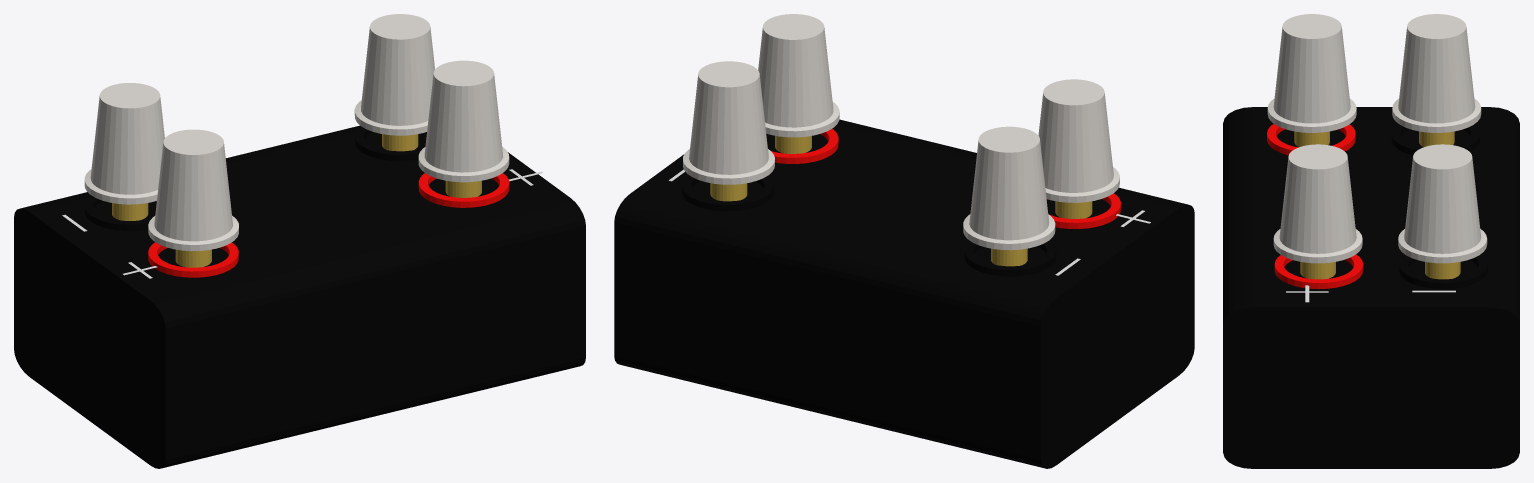
3 views of the same model, side by side, from view 1: azimuth 30°, elevation 25°; view 2: azimuth 150°, elevation 25°; view 3: azimuth 270°, elevation 25° (orthographic). The views are drawn at different scales.
Visible parts, largest first — view 1: box1.001, 按钮2.014, 按钮2.010, 按钮2.016, 按钮2.012, 帽体.008, 帽体.010, 帽体.009, 帽体.011, 按钮2.011, 按钮2.013, 按钮2.017 (+1 smaller); view 2: box1.001, 按钮2.012, 按钮2.016, 按钮2.010, 按钮2.014, 帽体.011, 帽体.009, 帽体.008, 帽体.010, 按钮2.017, 按钮2.011, 按钮2.015 (+1 smaller); view 3: box1.001, 按钮2.016, 按钮2.014, 按钮2.012, 按钮2.010, 帽体.011, 帽体.010, 帽体.008, 帽体.009, 按钮2.015, 按钮2.017, 按钮2.013 (+1 smaller).
Part boxes in pixels (x1=…): box1.001: x1=14, y1=125, x2=585, y2=468; 按钮2.014: x1=418, y1=60, x2=509, y2=182; 按钮2.010: x1=148, y1=129, x2=238, y2=251; 按钮2.016: x1=354, y1=14, x2=434, y2=135; 按钮2.012: x1=84, y1=83, x2=164, y2=204; 帽体.008: x1=148, y1=242, x2=238, y2=277; 帽体.010: x1=418, y1=173, x2=509, y2=207; 帽体.009: x1=84, y1=195, x2=156, y2=230; 帽体.011: x1=355, y1=126, x2=423, y2=161; 按钮2.011: x1=175, y1=249, x2=211, y2=267; 按钮2.013: x1=112, y1=203, x2=148, y2=220; 按钮2.017: x1=382, y1=134, x2=418, y2=151; box1.001: x1=614, y1=119, x2=1194, y2=468; 按钮2.012: x1=963, y1=126, x2=1055, y2=250; 按钮2.016: x1=683, y1=61, x2=774, y2=184; 按钮2.010: x1=1038, y1=79, x2=1119, y2=202; 按钮2.014: x1=758, y1=14, x2=839, y2=137; 帽体.011: x1=682, y1=175, x2=773, y2=211; 帽体.009: x1=964, y1=240, x2=1056, y2=276; 帽体.008: x1=1046, y1=193, x2=1120, y2=228; 帽体.010: x1=771, y1=129, x2=838, y2=163; 按钮2.017: x1=710, y1=183, x2=747, y2=201; 按钮2.011: x1=1055, y1=201, x2=1092, y2=218; 按钮2.015: x1=775, y1=136, x2=811, y2=153; box1.001: x1=1223, y1=107, x2=1519, y2=468; 按钮2.016: x1=1398, y1=144, x2=1487, y2=263; 按钮2.014: x1=1273, y1=144, x2=1362, y2=263; 按钮2.012: x1=1392, y1=14, x2=1481, y2=132; 按钮2.010: x1=1267, y1=14, x2=1356, y2=132; 帽体.011: x1=1399, y1=254, x2=1487, y2=289; 帽体.010: x1=1274, y1=254, x2=1363, y2=288; 帽体.008: x1=1267, y1=123, x2=1355, y2=155; 帽体.009: x1=1391, y1=123, x2=1480, y2=155; 按钮2.015: x1=1300, y1=262, x2=1335, y2=279; 按钮2.017: x1=1425, y1=262, x2=1460, y2=279; 按钮2.013: x1=1419, y1=131, x2=1454, y2=146.
Bounding box in the file's own units: 8 × 5.15 × 5.
